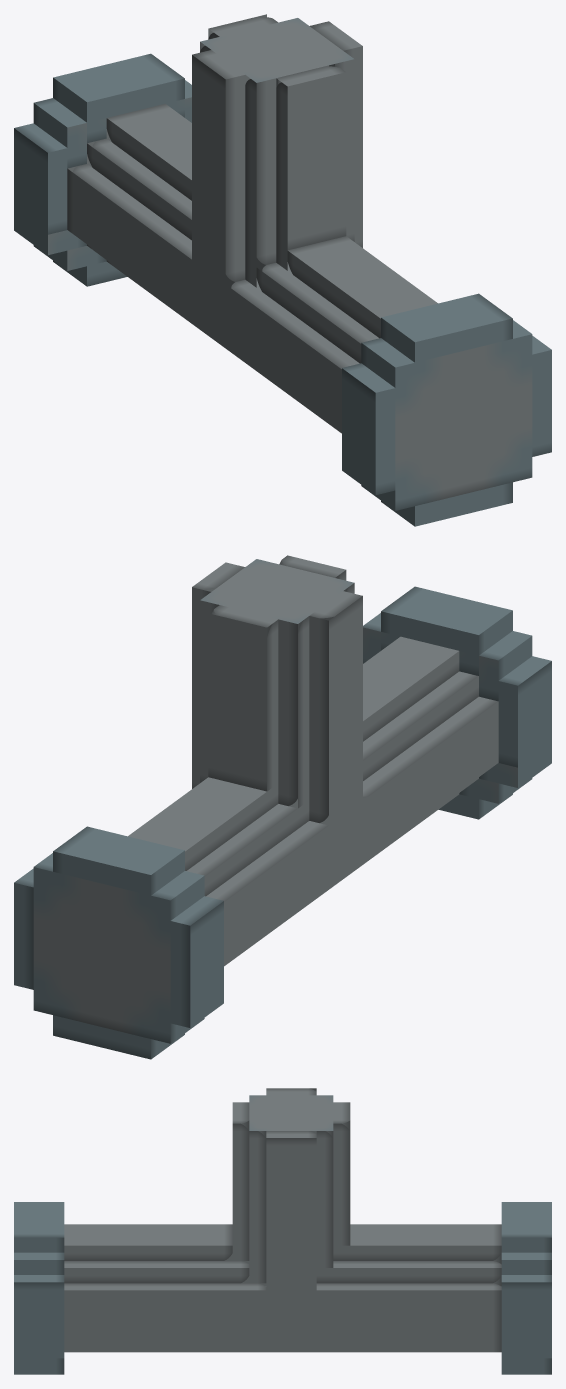
File: rura_rozielnik_T.dae
3 views of the same model, one above another, from view 1: azimuth 30°, elevation 25°; view 2: azimuth 150°, elevation 25°; view 3: azimuth 270°, elevation 25° (orthographic). The views are drawn at different scales.
Visible parts, largest first — view 1: Content; view 2: Content; view 3: Content.
Part boxes in pixels (x1=…): Content: x1=14, y1=14, x2=551, y2=526; Content: x1=14, y1=555, x2=551, y2=1059; Content: x1=14, y1=1088, x2=551, y2=1374.
Bounding box in the file's own units: 9 × 16 × 32.
Materials: 1 (1 with a texture image).
